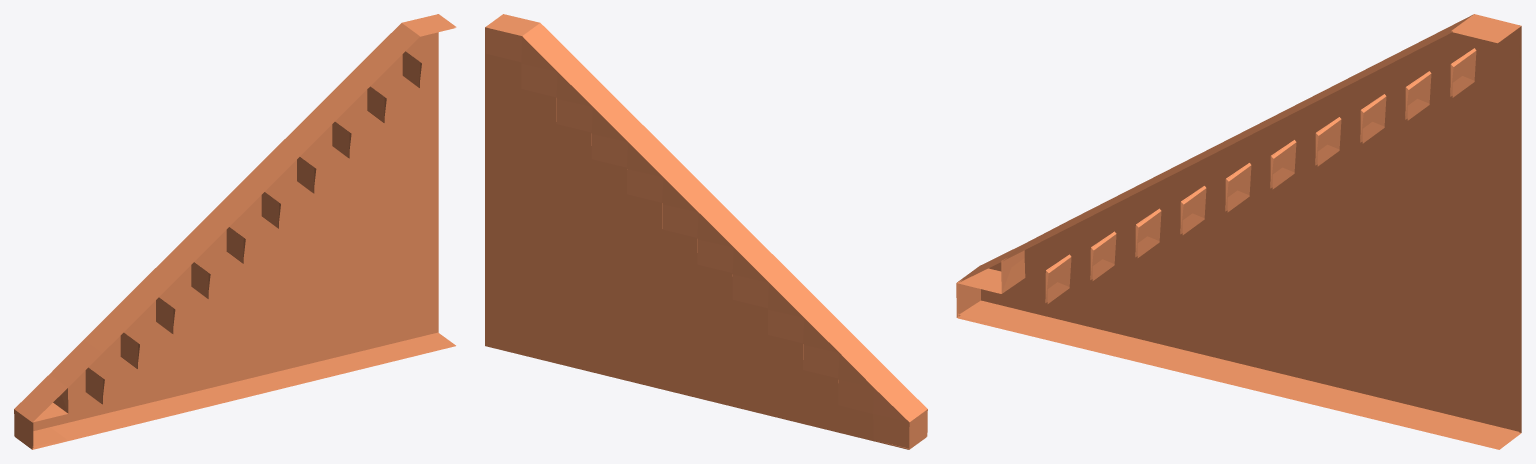
Rendered from stairs.fbx.
3 views of the same model, side by side, from view 1: azimuth 30°, elevation 25°; view 2: azimuth 150°, elevation 25°; view 3: azimuth 330°, elevation 25° (orthographic). The views are drawn at different scales.
Parts seen in each view (by area): view 1: Cube.006; view 2: Cube.006; view 3: Cube.006.
Part boxes in pixels (box(x1,y1,x2,y2)): Cube.006: box(14, 14, 456, 449); Cube.006: box(485, 14, 927, 449); Cube.006: box(956, 14, 1521, 449).
Size of the model in its own units: 6608 by 4759 by 508.
